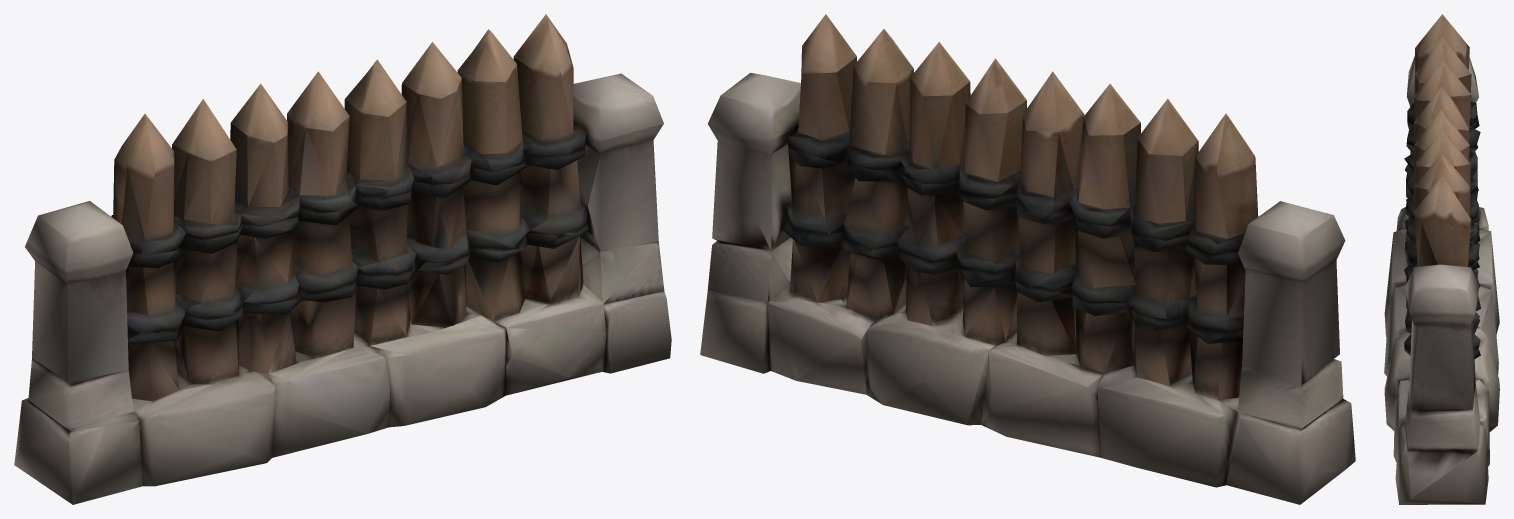
Rendered from wall.glb.
3 views of the same model, side by side, from view 1: azimuth 30°, elevation 25°; view 2: azimuth 150°, elevation 25°; view 3: azimuth 270°, elevation 25° (orthographic). The views are drawn at different scales.
Parts seen in each view (by area): view 1: tripo_node_e8954613-3056-4083-a868-40364a968d4f; view 2: tripo_node_e8954613-3056-4083-a868-40364a968d4f; view 3: tripo_node_e8954613-3056-4083-a868-40364a968d4f.
Boxes of the visible parts, x1=… form: tripo_node_e8954613-3056-4083-a868-40364a968d4f: x1=14, y1=14, x2=671, y2=504; tripo_node_e8954613-3056-4083-a868-40364a968d4f: x1=700, y1=14, x2=1355, y2=504; tripo_node_e8954613-3056-4083-a868-40364a968d4f: x1=1384, y1=14, x2=1499, y2=504.
Size of the model in its own units: 0.9821 by 0.536 by 0.1926.
Materials: 1 (1 with a texture image).
